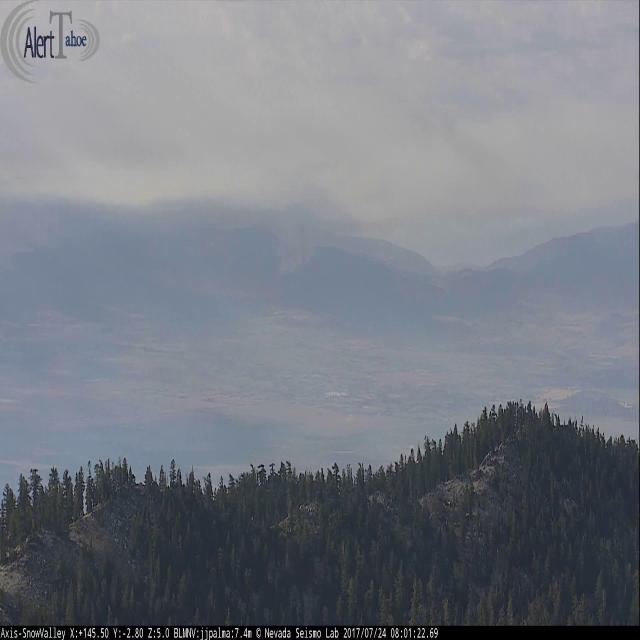smoke: (272, 183, 333, 274)
